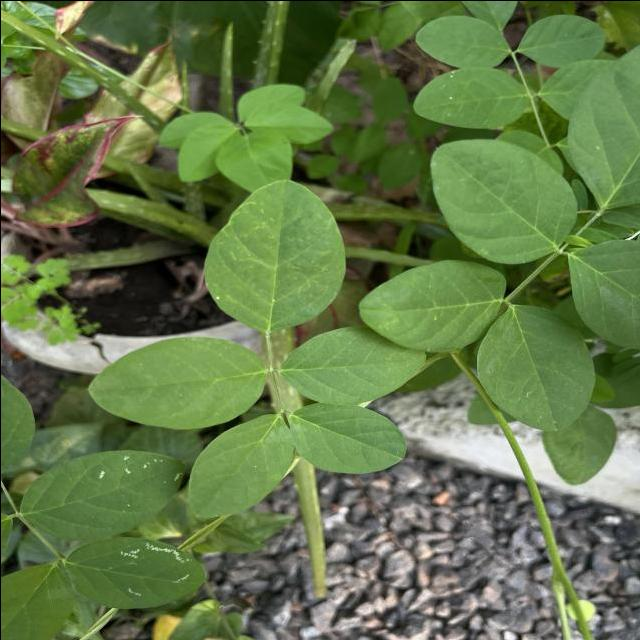Clitoria ternatea: (200, 178, 348, 334), (426, 136, 580, 265), (85, 334, 268, 430), (473, 302, 598, 432), (356, 258, 508, 354), (276, 322, 428, 406), (186, 411, 294, 518), (287, 400, 407, 474)
